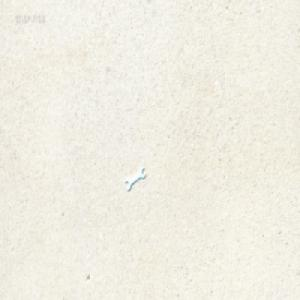Wrench: (125, 167, 146, 193)
